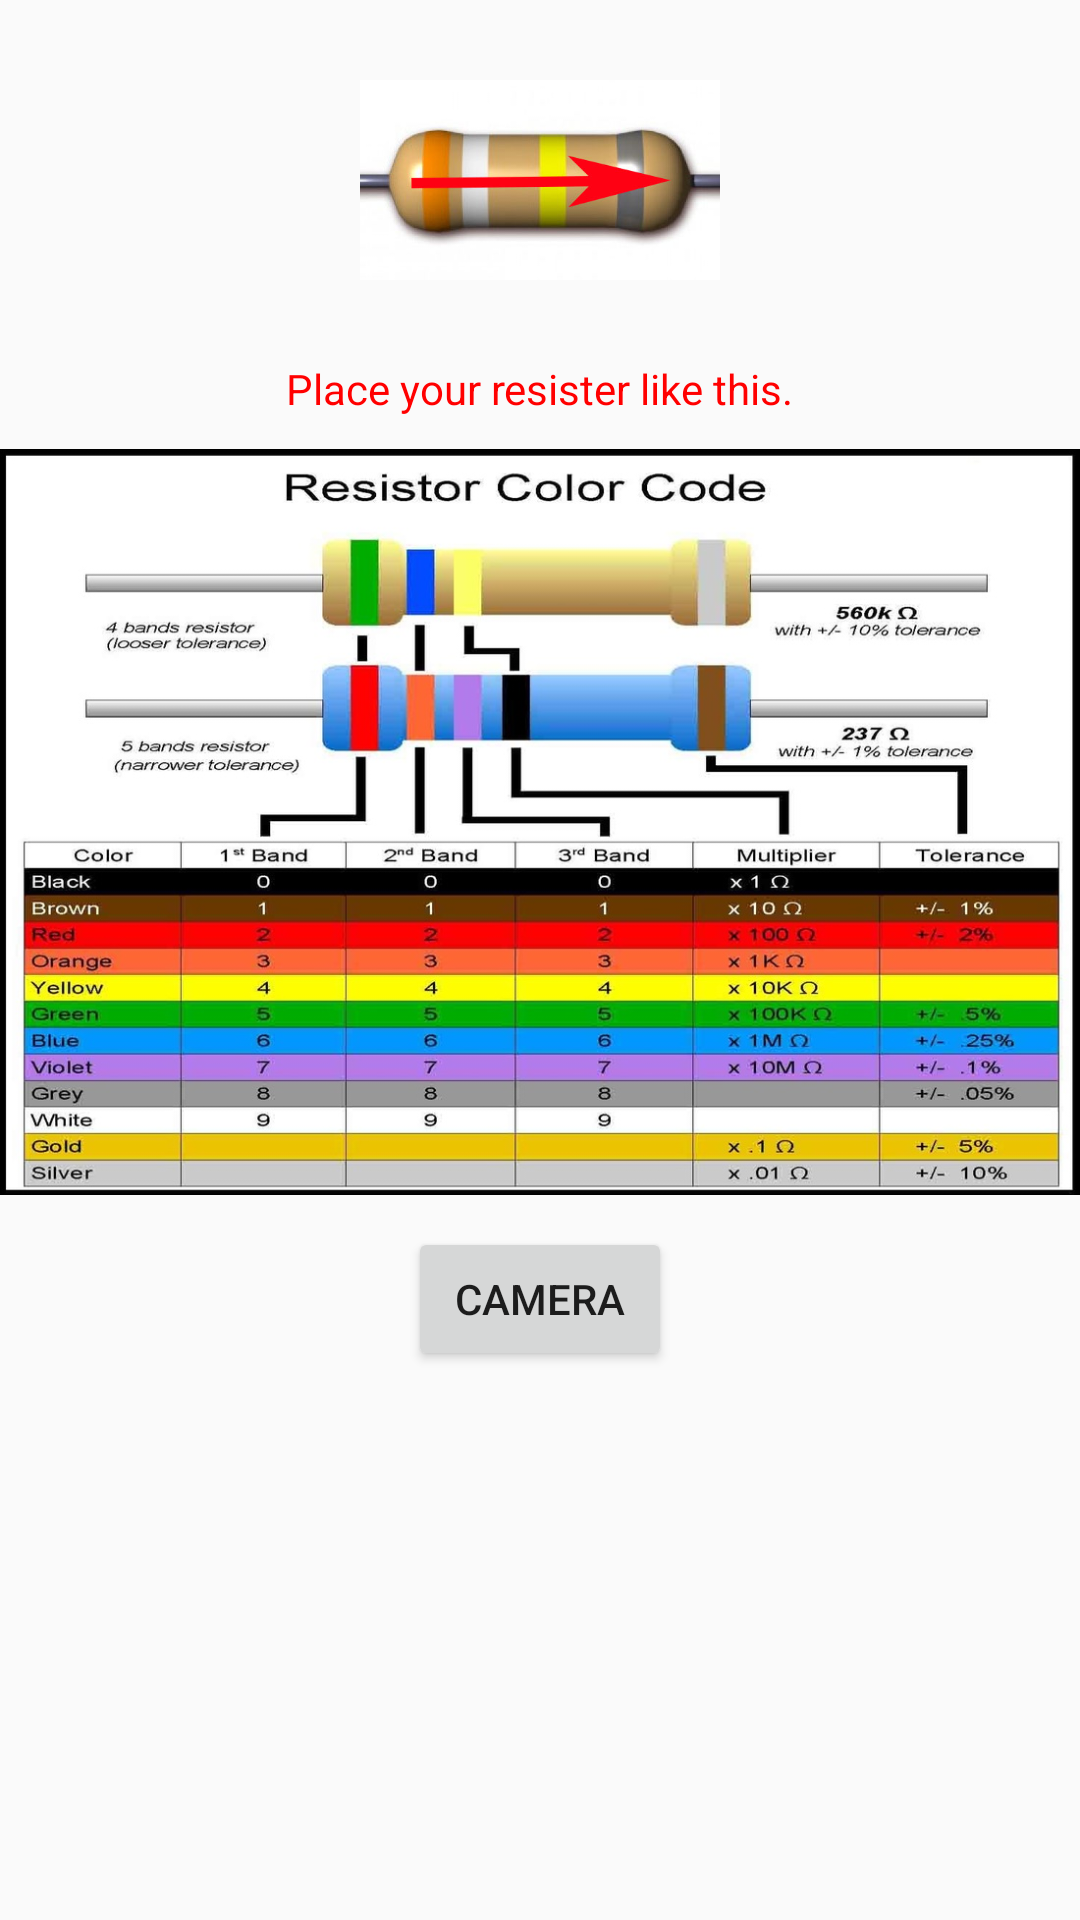

Point at icon controls on the screen. Image size 1080w x 1920h, points as [x,y].
resister with arrow: [540,185]
